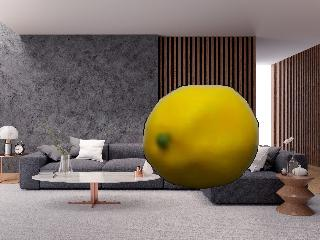lemon: (135, 81, 263, 192)
